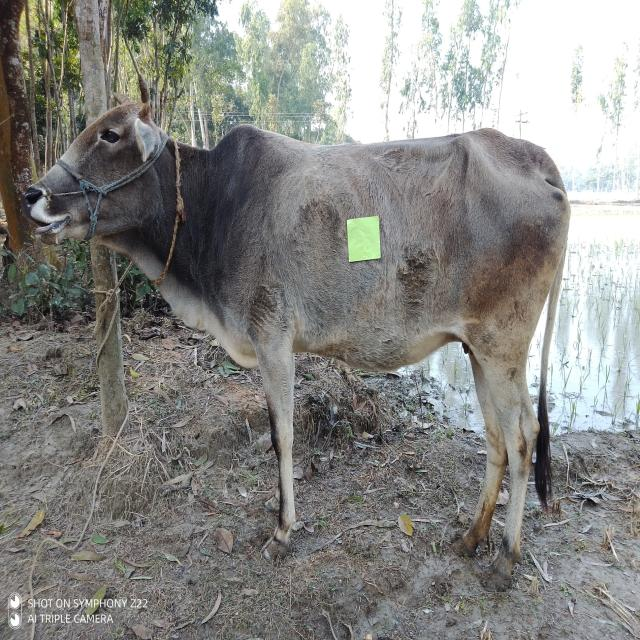badan_sapi: (244, 137, 549, 364)
sapi: (21, 71, 576, 603)
